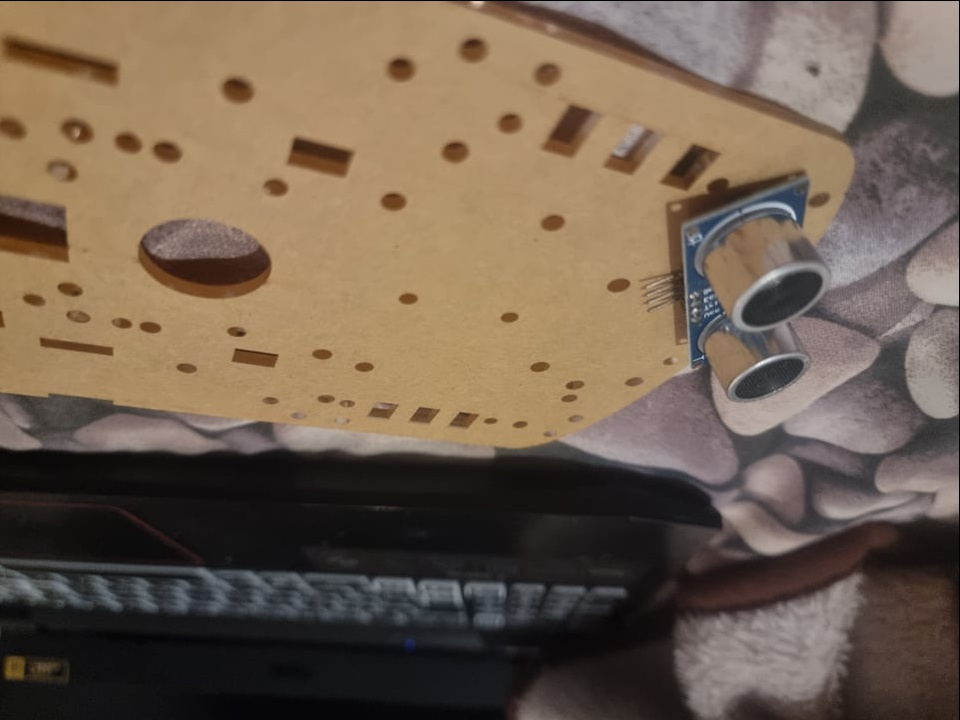SENSOR: (686, 174, 831, 405)
